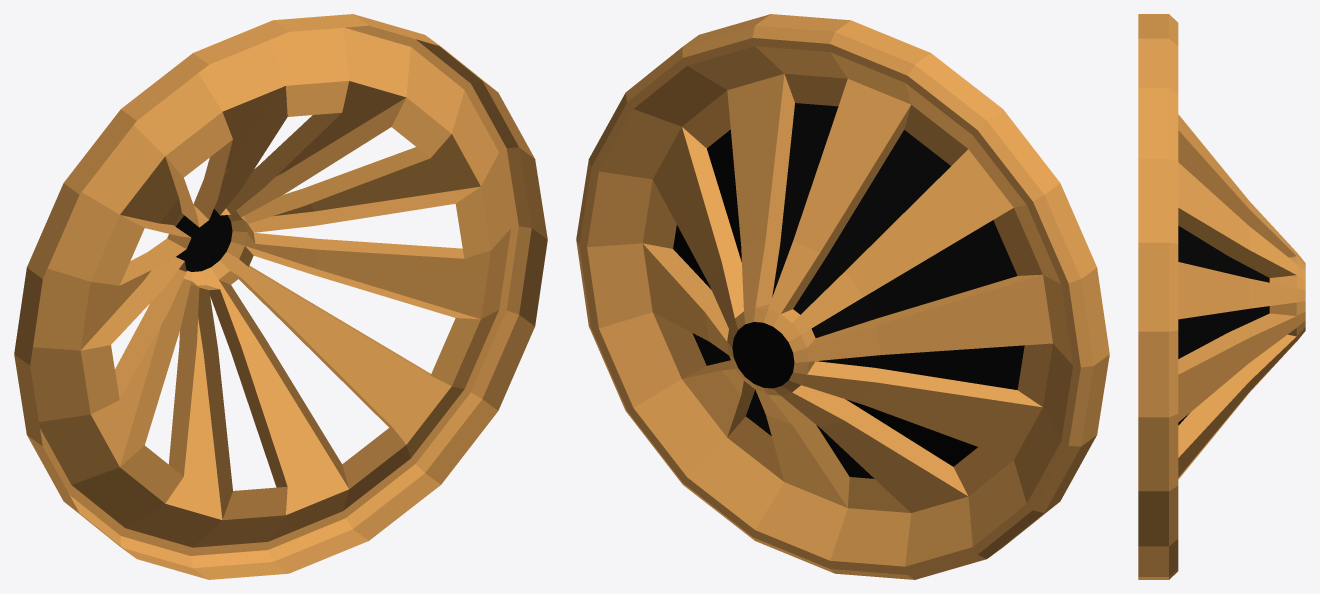
The model's file is Ring6.fbx.
3 views of the same model, side by side, from view 1: azimuth 30°, elevation 25°; view 2: azimuth 150°, elevation 25°; view 3: azimuth 270°, elevation 25° (orthographic). The views are drawn at different scales.
Parts seen in each view (by area): view 1: polySurface5; view 2: polySurface5; view 3: polySurface5.
Boxes of the visible parts, bbox=[...] form: polySurface5: bbox=[14, 14, 547, 579]; polySurface5: bbox=[576, 14, 1109, 579]; polySurface5: bbox=[1138, 14, 1305, 579].
Bounding box in the file's own units: 0.0291 × 0.0291 × 0.00854.
